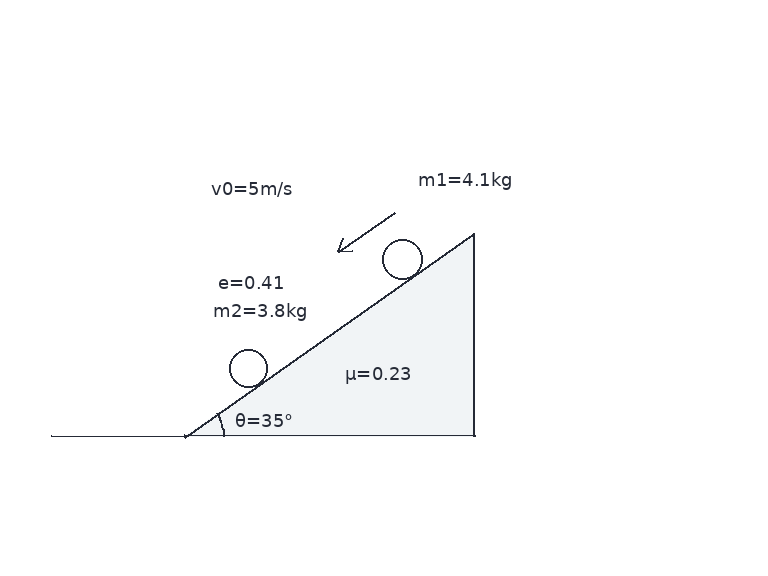ball: (380, 237, 424, 281), (227, 347, 269, 389)
ramp: (182, 232, 475, 438)
